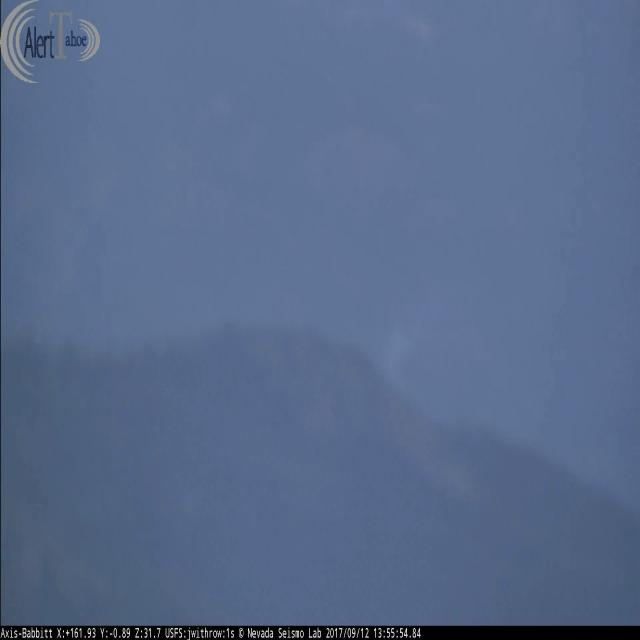smoke: (376, 329, 415, 396)
